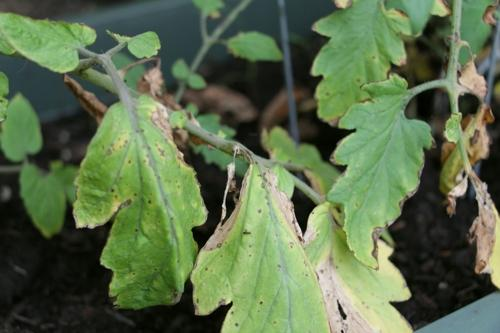Tomato Early blight leaf: (73, 96, 208, 311), (188, 157, 335, 333), (323, 68, 433, 273)
